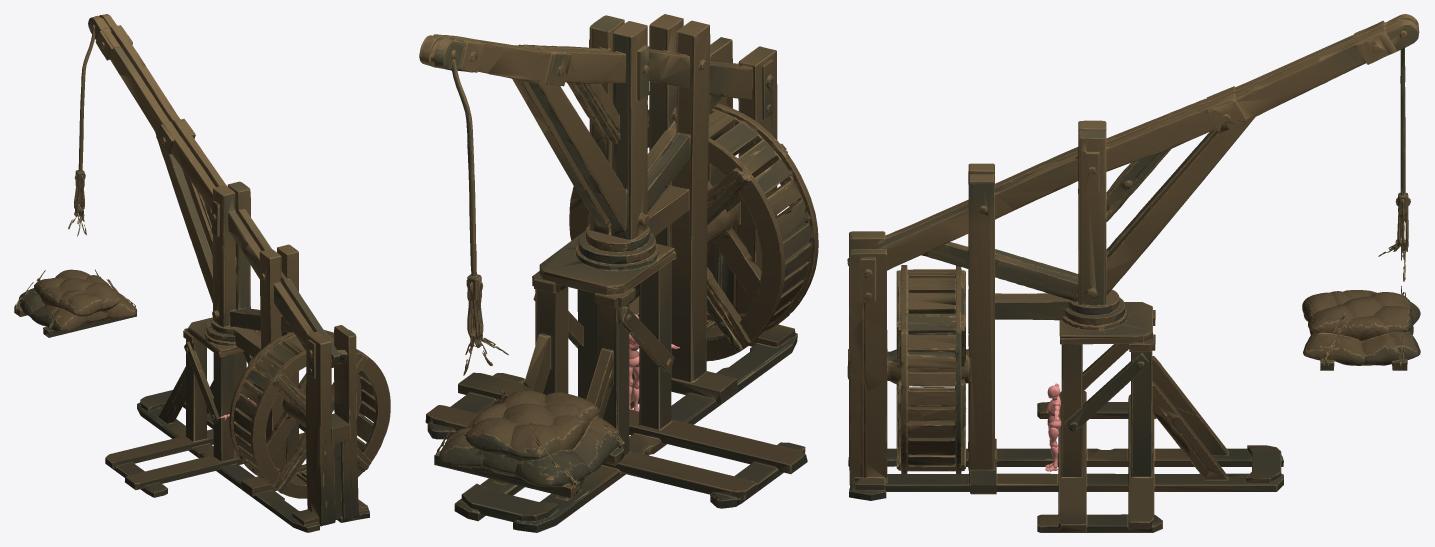
Rendered from ruedaMadera.glb.
3 views of the same model, side by side, from view 1: azimuth 30°, elevation 25°; view 2: azimuth 150°, elevation 25°; view 3: azimuth 270°, elevation 25° (orthographic). The views are drawn at different scales.
Parts seen in each view (by area): view 1: MESH; view 2: MESH, maniqui.001; view 3: MESH, maniqui.001.
Boxes of the visible parts, bbox=[...] form: MESH: bbox=[14, 14, 390, 532]; MESH: bbox=[419, 14, 818, 532]; maniqui.001: bbox=[629, 314, 679, 411]; MESH: bbox=[847, 14, 1420, 532]; maniqui.001: bbox=[1045, 383, 1061, 471].
Size of the model in its own units: 6.57 by 10.27 by 11.9.
Materials: 3 (1 with a texture image).
